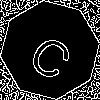C: (25, 25, 81, 84)
